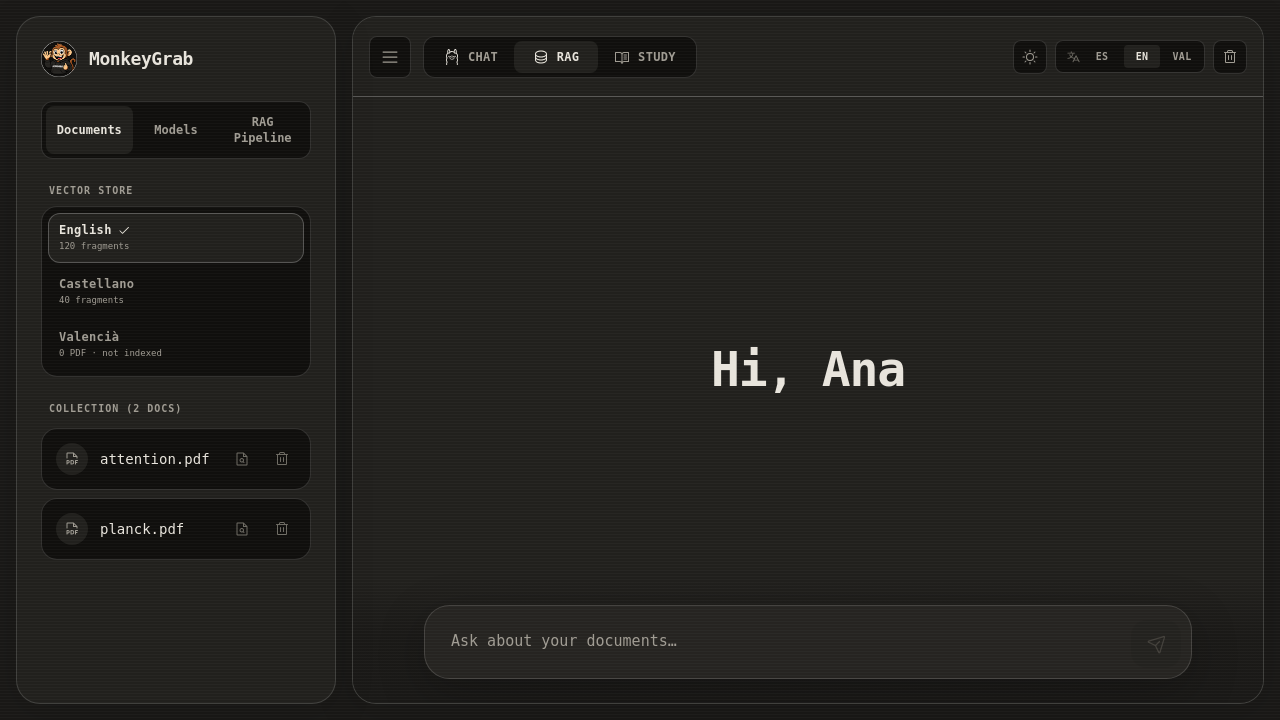
Test: study mode › suggests matching documents and completes one with Tab
Expected: the text box with placeholder "Ask about your documents…" is shown, [435,616,1119,668]
Click the button "STUDY": (645, 56) [598,40,692,72]
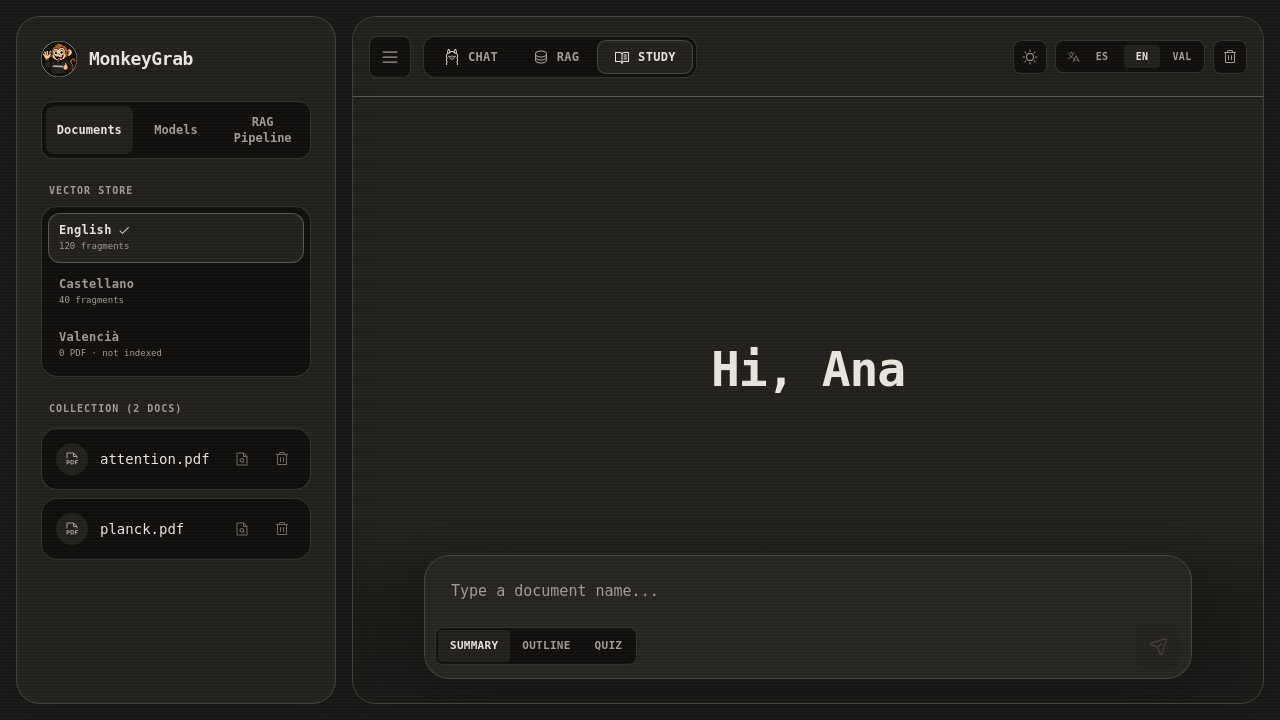
In the text box with placeholder "Type a document name...": (808, 591) [435,566,1181,616], type "planc"
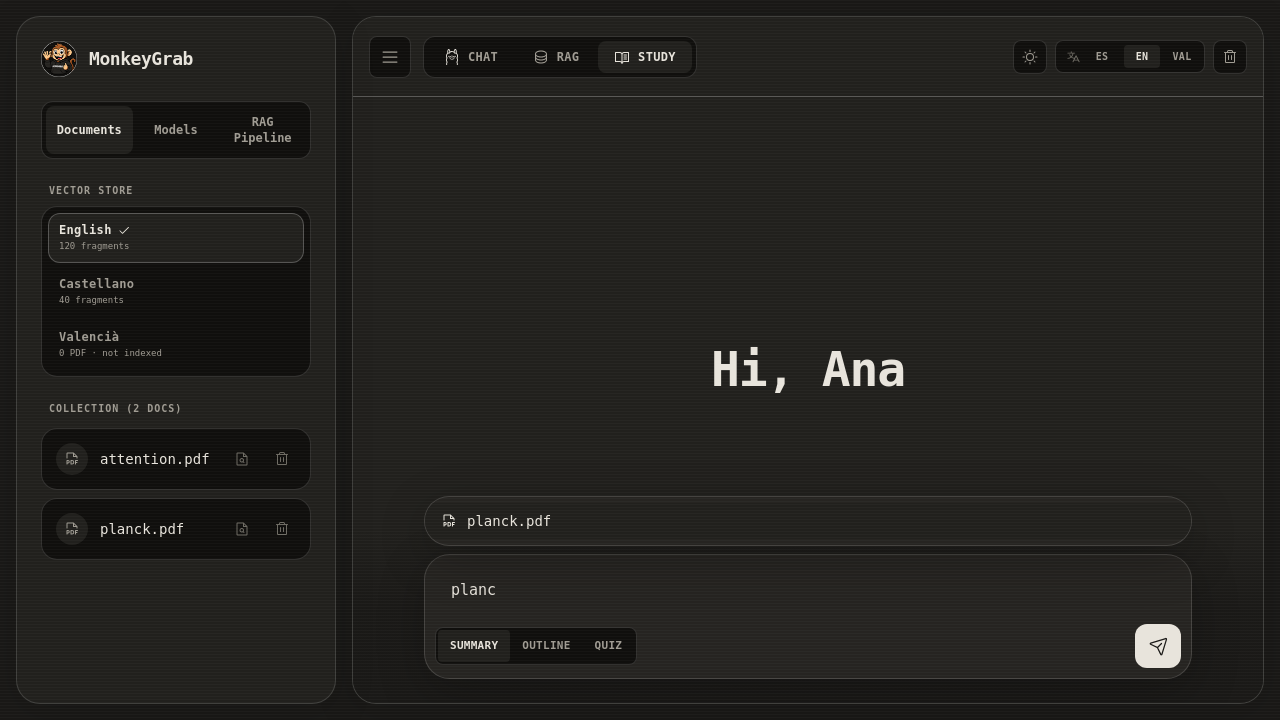
Expected: the button "planck.pdf" is shown, [425,503,1191,539]
Press Tab
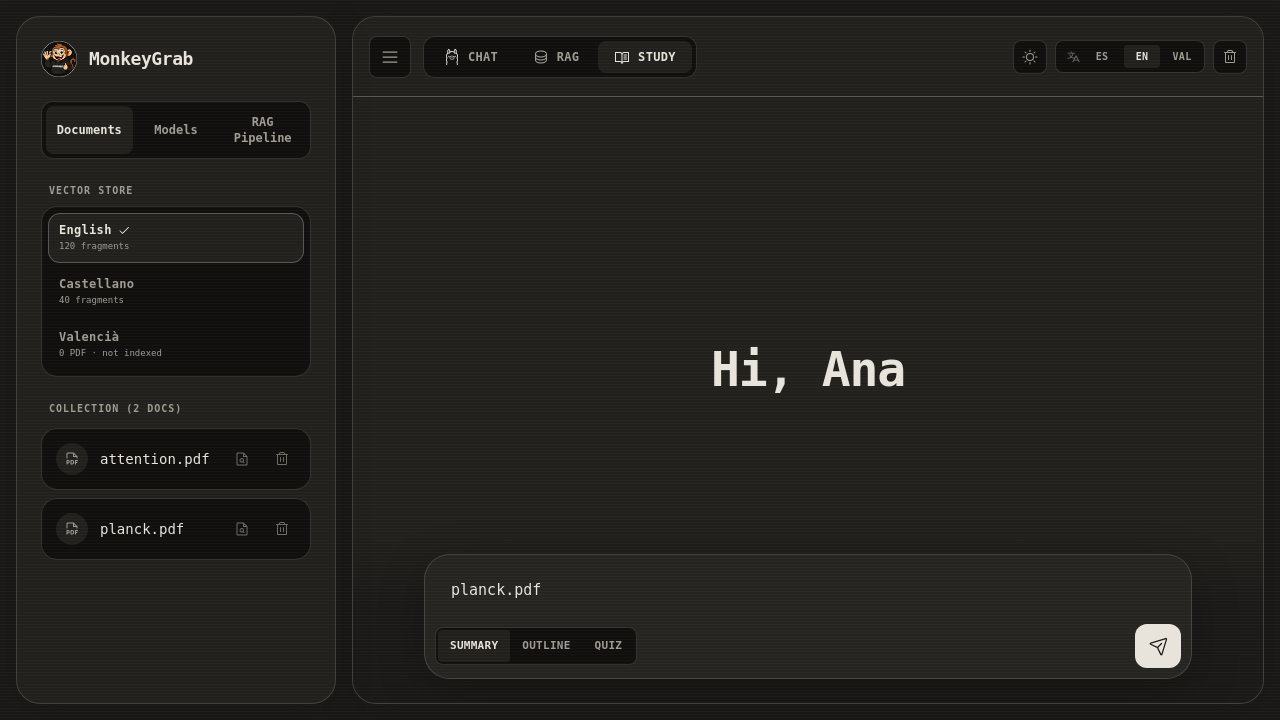
Expected: the text box with placeholder "Type a document name..." holds "planck.pdf", [435,565,1181,616]
